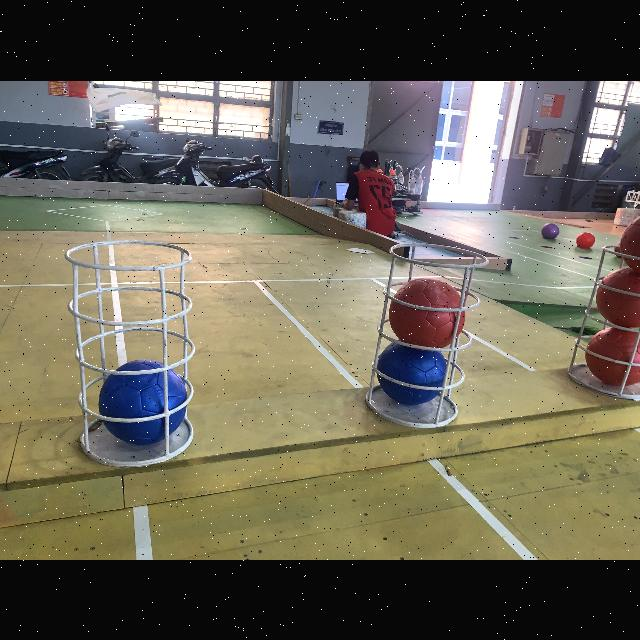B: (97, 358, 187, 444), (375, 338, 449, 407)
R: (389, 277, 465, 349), (582, 326, 640, 386), (596, 267, 640, 331), (618, 213, 640, 275)
